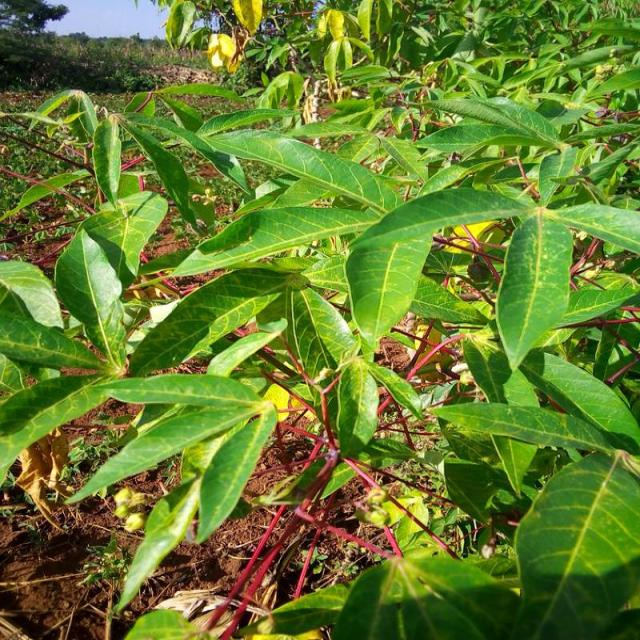cassava leaf: (514, 450, 640, 638), (496, 207, 574, 371)
